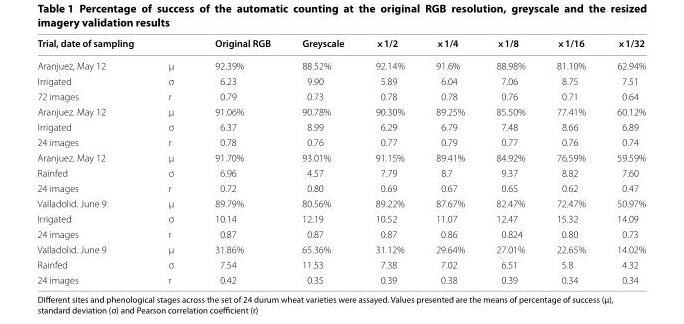table: (36, 36, 645, 285)
table column: (36, 36, 136, 285), (193, 36, 285, 285), (285, 36, 359, 285), (479, 36, 540, 285), (359, 36, 419, 285), (419, 36, 479, 285), (540, 36, 600, 285), (136, 36, 193, 285), (600, 36, 645, 285)
table column header: (36, 36, 645, 73)
table row: (36, 36, 645, 57), (36, 57, 645, 73), (36, 118, 645, 134), (36, 164, 645, 180), (36, 210, 645, 226), (36, 73, 645, 88), (36, 88, 645, 103), (36, 103, 645, 118), (36, 134, 645, 149), (36, 149, 645, 164), (36, 180, 645, 195), (36, 195, 645, 210), (36, 226, 645, 241), (36, 241, 645, 256), (36, 256, 645, 271), (36, 271, 645, 285)
table spanning cell: (193, 36, 285, 73), (36, 36, 193, 57), (285, 36, 359, 73), (479, 36, 540, 73), (359, 36, 419, 73), (419, 36, 479, 73), (540, 36, 600, 73), (600, 36, 645, 73)
